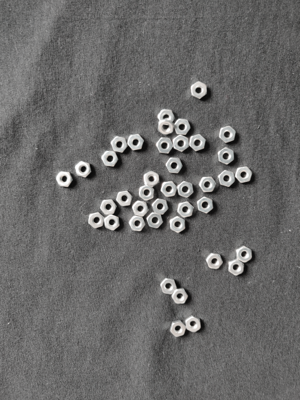nut: (190, 134, 207, 152), (191, 82, 208, 99), (219, 126, 236, 143), (218, 148, 235, 165), (177, 181, 194, 198), (161, 181, 178, 198), (147, 212, 164, 229), (161, 278, 178, 295), (156, 138, 174, 154), (56, 171, 74, 187), (170, 216, 186, 234), (174, 119, 191, 135), (158, 119, 175, 135), (111, 137, 128, 153), (102, 151, 119, 167), (173, 135, 189, 152), (75, 162, 92, 178), (166, 158, 183, 174), (144, 171, 160, 188), (236, 167, 253, 183), (219, 171, 236, 187), (116, 191, 133, 207), (198, 197, 214, 214), (178, 202, 195, 218), (152, 199, 169, 215), (129, 216, 146, 232), (104, 215, 120, 232), (88, 213, 105, 229), (229, 259, 245, 276), (207, 254, 224, 270), (186, 316, 202, 333), (170, 321, 186, 338), (199, 177, 217, 192), (128, 135, 144, 151), (139, 185, 155, 201), (133, 201, 149, 217), (100, 200, 117, 215), (237, 246, 252, 263), (172, 289, 189, 304), (158, 109, 175, 122)
